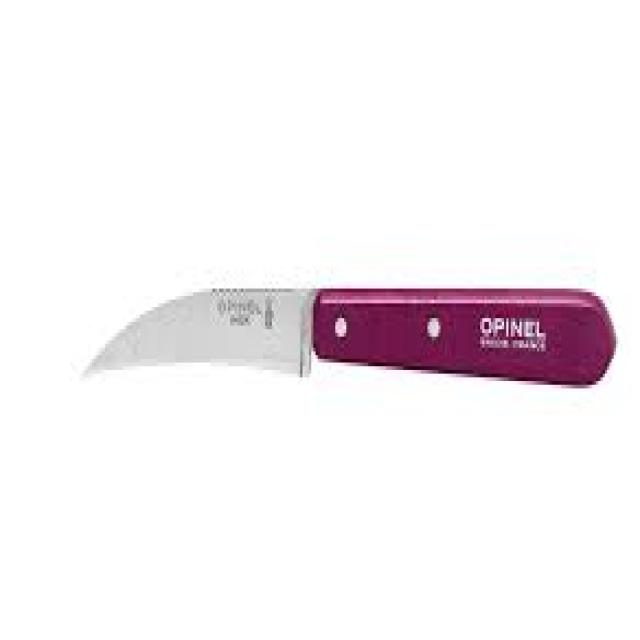knife: (81, 271, 624, 405)
